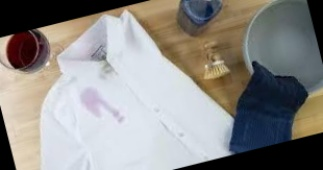wine: (73, 80, 111, 125), (107, 98, 130, 127)
